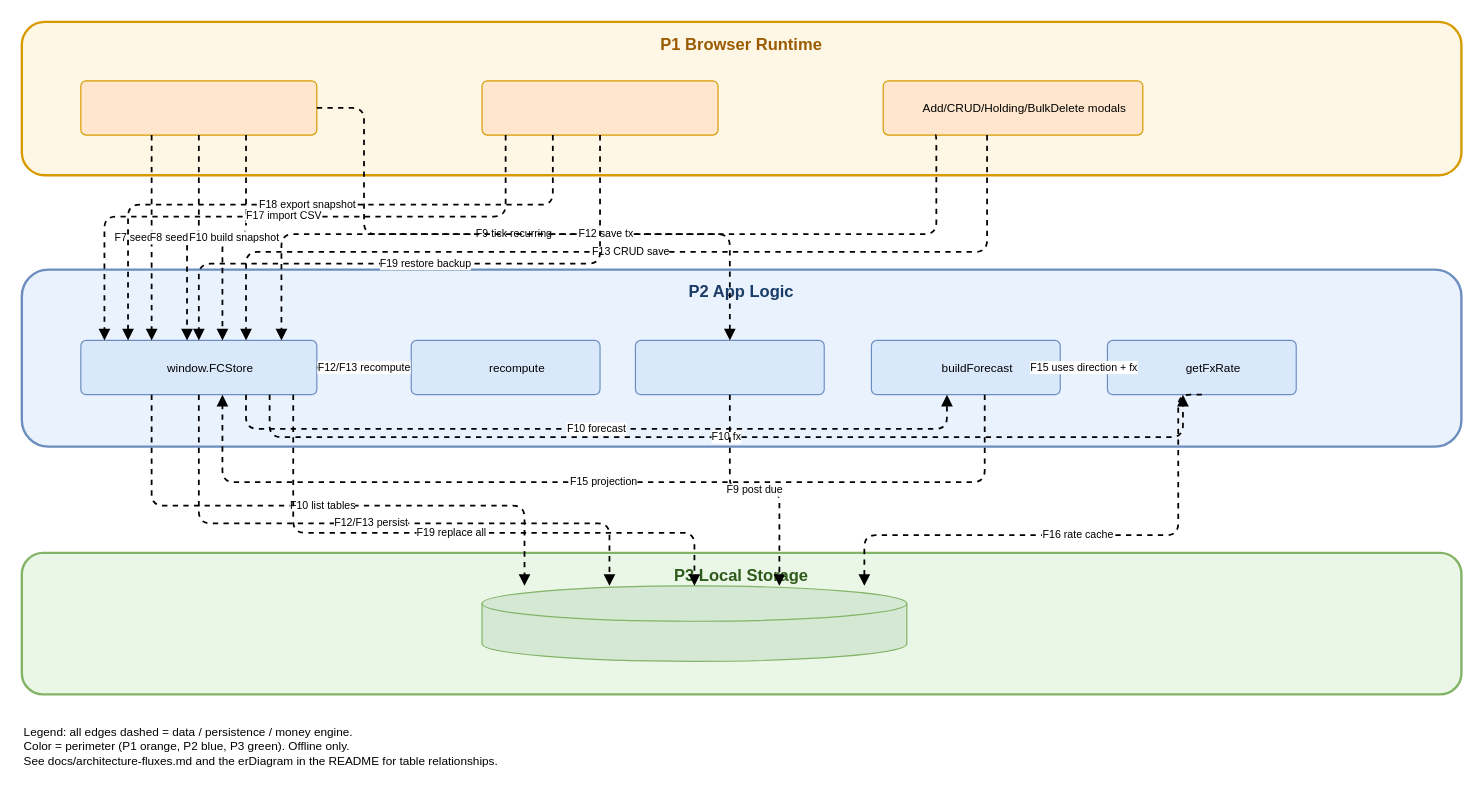
The diagram is 1482 pixels wide and 808 high, and some of its shapes have lost their labels. Each missing label, with the centre of its shape:
desktop/page.js boot+router: (198,107)
fc.data.profileId.table (14 tables): (694,623)
React screens on window.FC: (599,107)
tickRecurring: (729,367)
